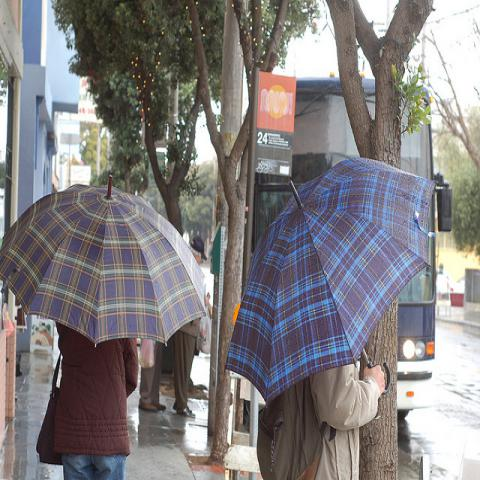bus: (254, 73, 454, 426)
